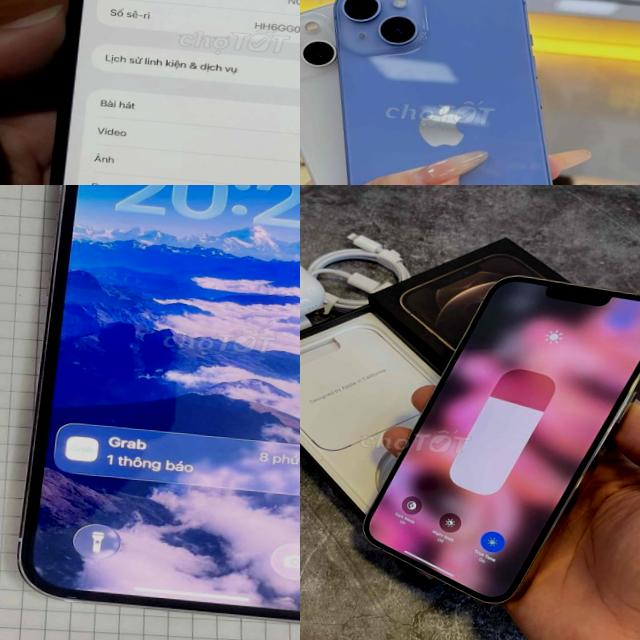gen_12_13: (16, 185, 300, 632), (350, 256, 640, 619), (33, 0, 300, 185)
gen_14: (315, 0, 592, 185)
